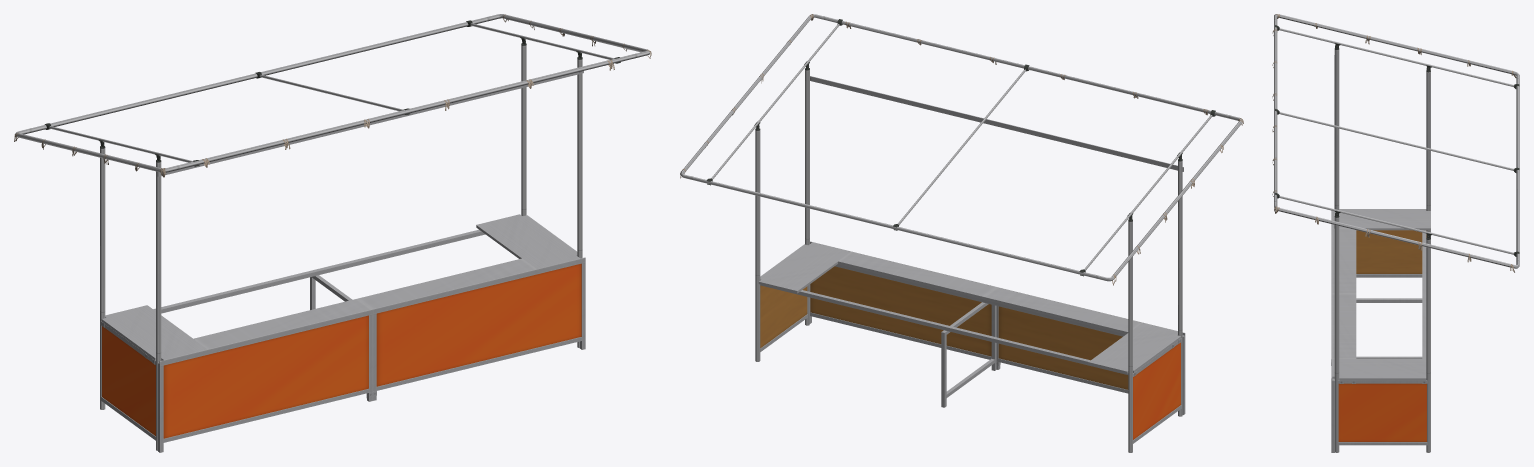
The model's file is jsf_4P_s04_c01_t03.fbx.
The picture shows the model from 3 angles, left to right: view 1: azimuth 30°, elevation 25°; view 2: azimuth 150°, elevation 25°; view 3: azimuth 270°, elevation 25°; orthographic projection. The views are drawn at different scales.
Parts seen in each view (by area): view 1: Base_s04_c01, Pillar4_s04, Table_4P_s04_t03, Rope_4P_s04; view 2: Base_s04_c01, Pillar4_s04, Table_4P_s04_t03, Support; view 3: Pillar4_s04, Base_s04_c01, Table_4P_s04_t03, Support, Rope_4P_s04.
Part boxes in pixels (<box>): Base_s04_c01: <box>100,257,585,452</box>; Pillar4_s04: <box>14,14,649,450</box>; Table_4P_s04_t03: <box>101,214,579,364</box>; Rope_4P_s04: <box>14,14,651,177</box>; Base_s04_c01: <box>760,241,1185,443</box>; Pillar4_s04: <box>680,14,1242,452</box>; Table_4P_s04_t03: <box>758,242,1181,376</box>; Support: <box>941,302,996,407</box>; Pillar4_s04: <box>1274,14,1519,452</box>; Base_s04_c01: <box>1331,210,1427,452</box>; Table_4P_s04_t03: <box>1332,209,1430,383</box>; Support: <box>1356,298,1422,358</box>; Rope_4P_s04: <box>1272,14,1516,272</box>.
Size of the model in its own units: 395 by 243 by 211.
